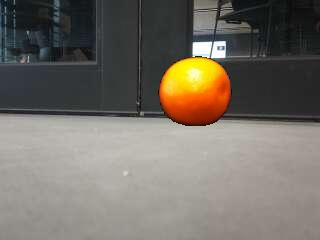Orange: (158, 57, 231, 129)
